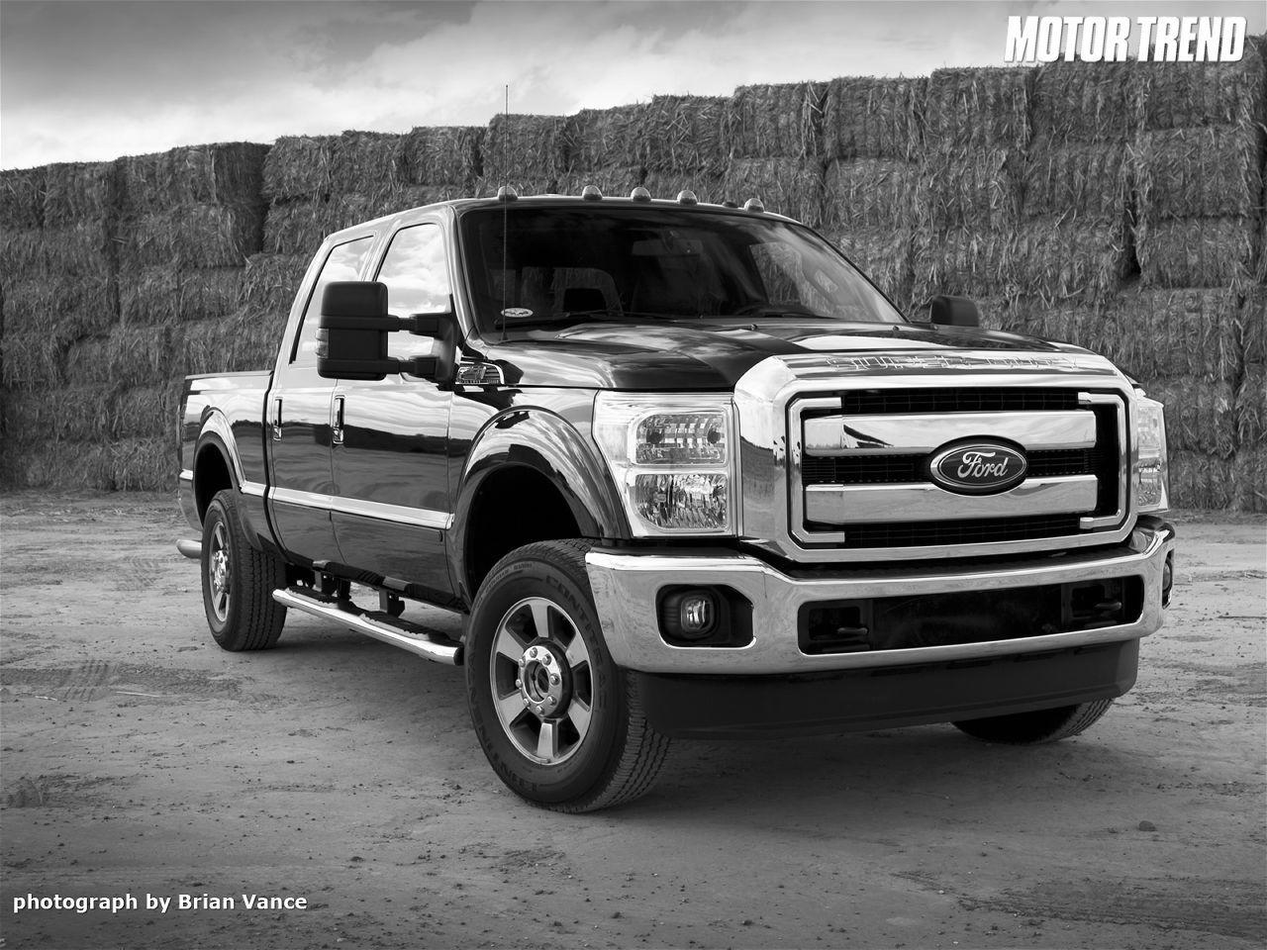car: (174, 184, 1179, 810)
